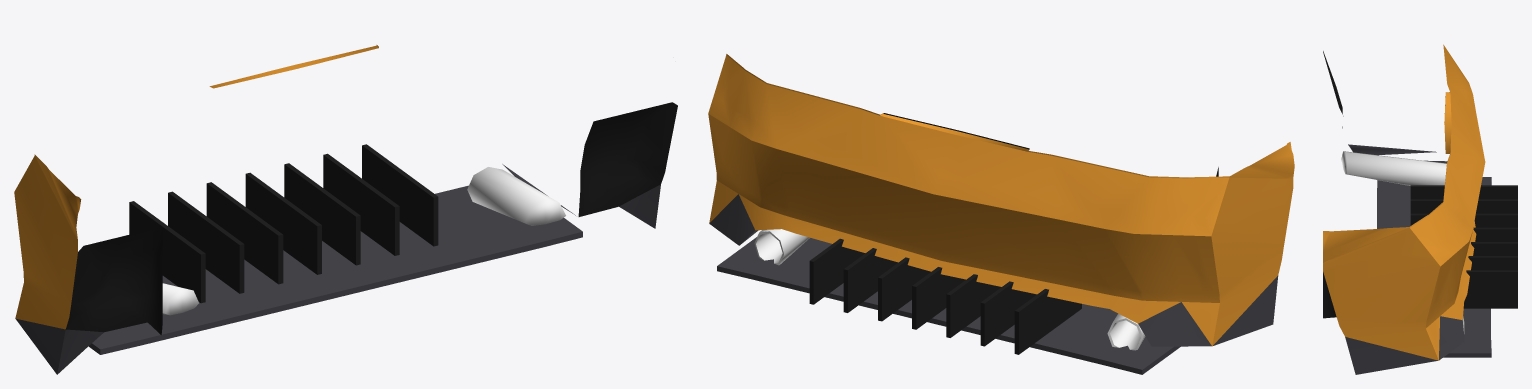
The model's file is protoCompact_rearBumper_kurogane.glb.
3 views of the same model, side by side, from view 1: azimuth 30°, elevation 25°; view 2: azimuth 150°, elevation 25°; view 3: azimuth 270°, elevation 25° (orthographic). The views are drawn at different scales.
Parts seen in each view (by area): view 1: rearBumper_kurogane; view 2: rearBumper_kurogane; view 3: rearBumper_kurogane.
Boxes of the visible parts, x1=… form: rearBumper_kurogane: x1=14, y1=45, x2=677, y2=374; rearBumper_kurogane: x1=708, y1=54, x2=1294, y2=374; rearBumper_kurogane: x1=1323, y1=44, x2=1517, y2=374.
Bounding box in the file's own units: 1.55 × 0.4824 × 0.5809.
